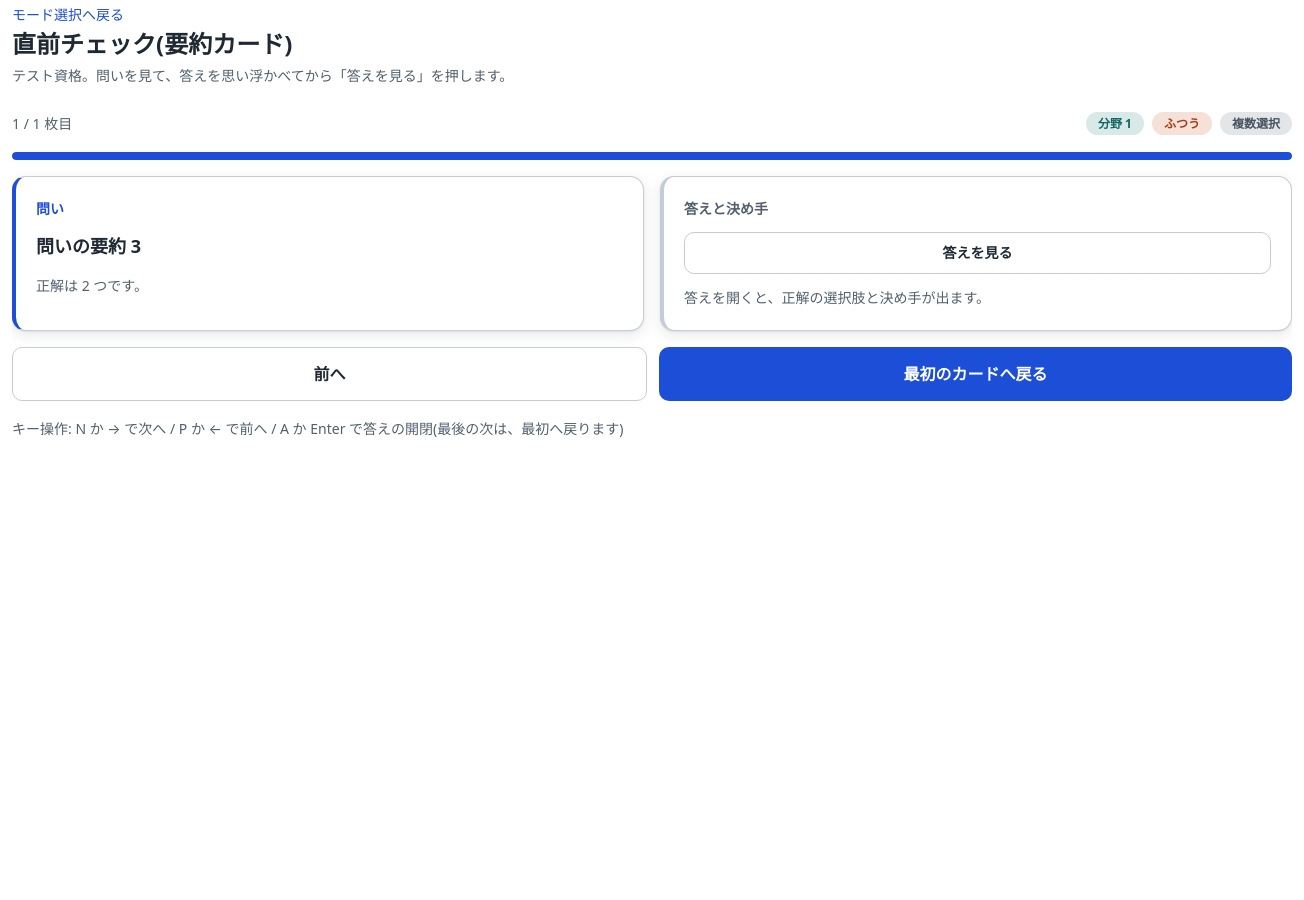
Test: SummaryCards › 複数選択のカード_正解の数を示し_すべての正解を並べる
The image size is (1304, 900).
Expected: the text "正解は 2 つです。" is shown, [36, 276, 148, 295]
Click the button "答えを見る" at (978, 253), box [684, 232, 1271, 274]
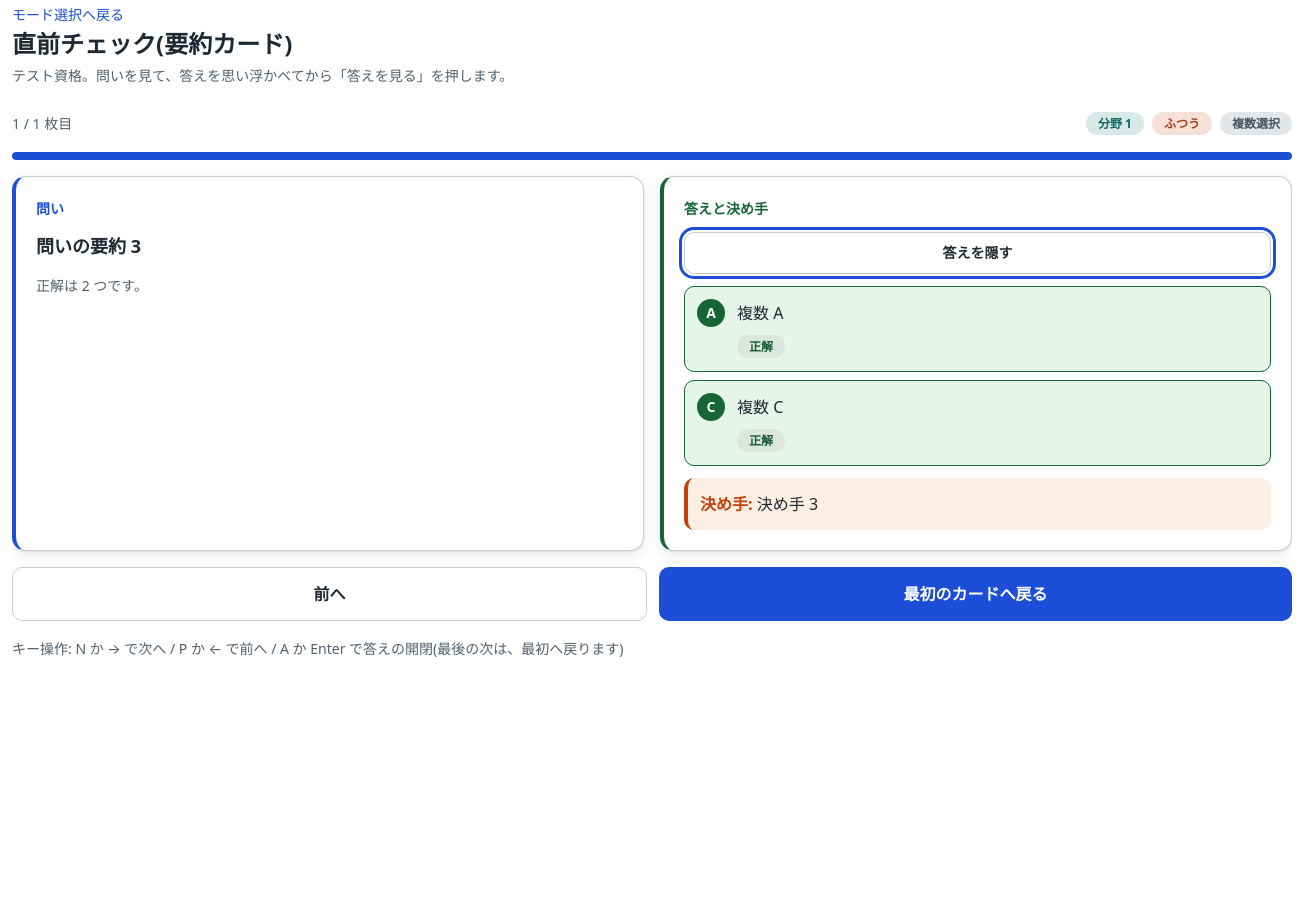
Result: the text "複数 A" is shown at [737, 302, 783, 324]
Result: the text "複数 C" is shown at [737, 396, 783, 418]
